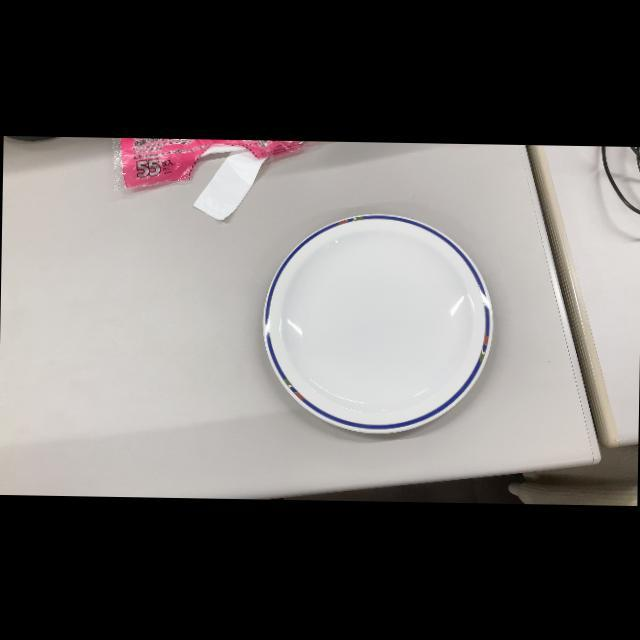plate: (259, 208, 497, 440)
